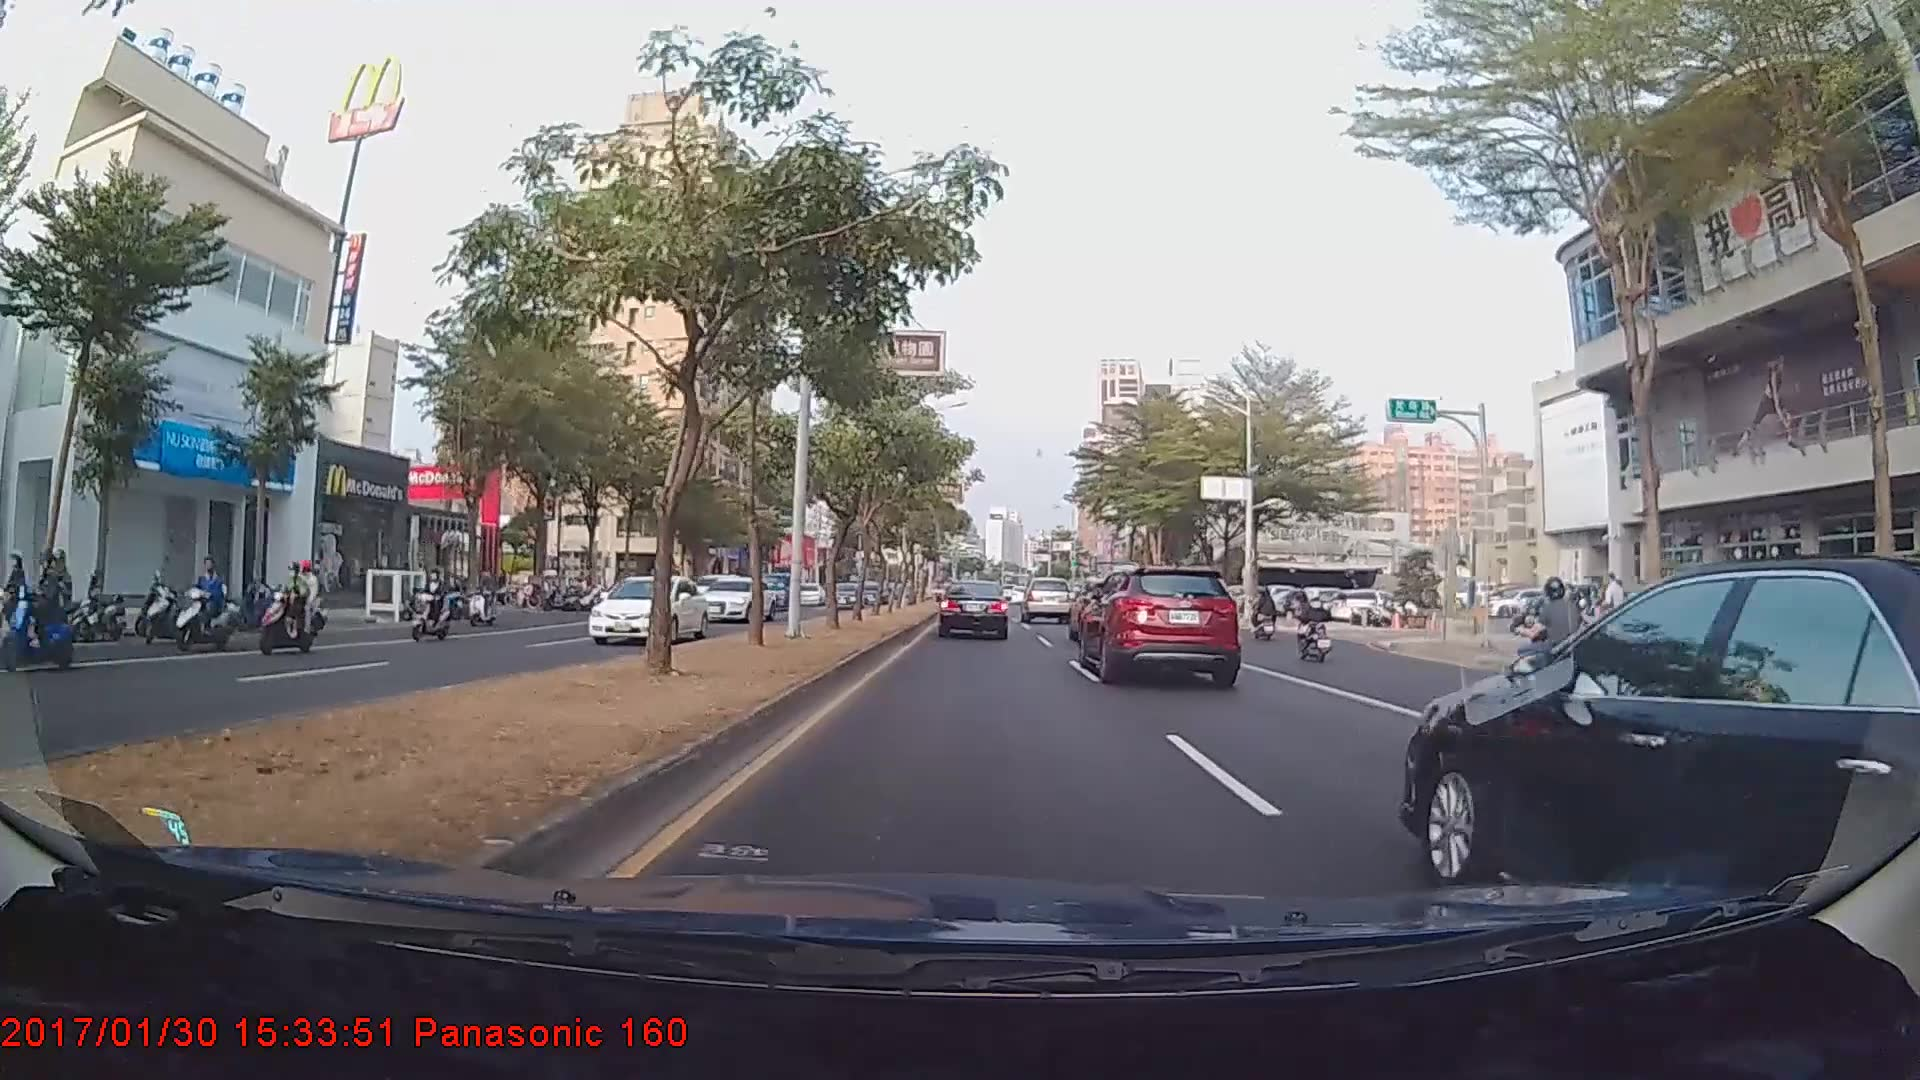rider: (1497, 572, 1615, 733), (160, 549, 243, 651), (252, 556, 321, 655), (1295, 586, 1339, 668)
vehicle: (1420, 553, 1919, 927), (1075, 562, 1241, 683), (585, 573, 709, 644), (937, 580, 1009, 640), (695, 573, 774, 622), (1018, 575, 1073, 625)
